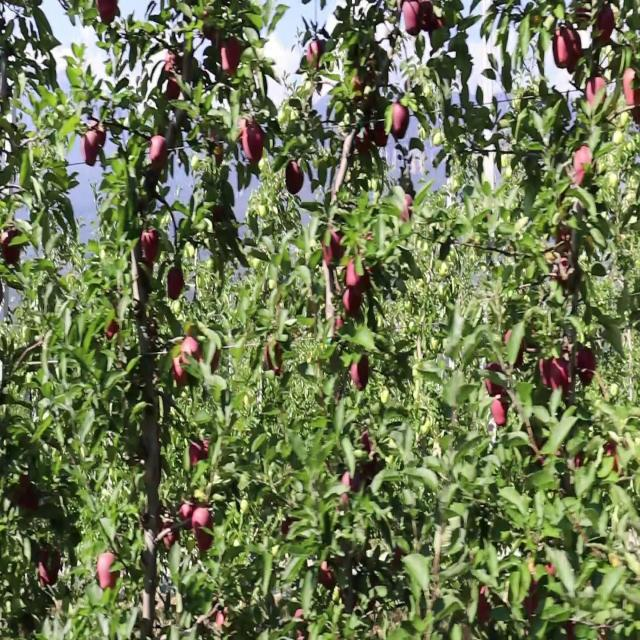apple: (552, 28, 584, 76), (240, 120, 265, 164), (84, 120, 108, 164), (220, 35, 244, 78), (192, 511, 215, 553), (84, 127, 107, 169), (572, 149, 596, 188), (40, 547, 61, 590), (596, 7, 617, 48), (324, 227, 344, 268), (140, 227, 160, 267), (484, 362, 505, 398), (360, 433, 377, 476), (576, 348, 596, 384), (100, 554, 119, 590), (392, 106, 411, 142), (352, 355, 371, 391), (4, 227, 21, 267), (556, 255, 575, 290), (624, 71, 640, 112), (588, 78, 608, 110), (152, 135, 169, 172), (96, 0, 119, 27), (420, 7, 443, 34), (308, 35, 325, 71), (540, 355, 558, 389), (508, 334, 525, 370), (340, 476, 361, 505), (268, 341, 284, 377), (344, 291, 363, 320), (288, 163, 304, 197), (192, 440, 211, 468), (172, 355, 188, 388), (552, 362, 570, 391), (524, 583, 539, 617), (356, 127, 372, 158), (212, 127, 225, 165), (492, 398, 509, 427), (556, 227, 574, 254), (168, 270, 184, 300), (20, 490, 40, 514), (404, 7, 420, 36), (320, 561, 336, 590), (16, 476, 32, 505), (400, 191, 414, 224), (164, 49, 180, 76), (160, 526, 177, 551), (480, 590, 492, 624), (608, 440, 620, 473), (204, 348, 220, 372), (376, 120, 389, 149), (184, 341, 202, 361), (576, 7, 593, 28), (168, 78, 182, 103), (352, 78, 366, 103), (392, 547, 406, 571), (180, 504, 195, 524), (296, 611, 307, 638), (108, 319, 120, 341), (280, 519, 293, 539), (212, 348, 220, 372), (544, 561, 556, 576), (216, 206, 224, 222), (576, 455, 584, 469), (504, 334, 512, 347), (336, 319, 344, 331)
